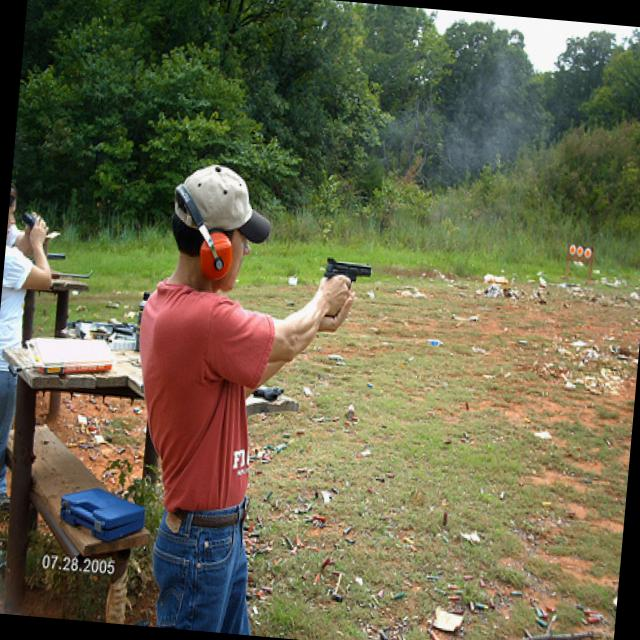handgun: (318, 252, 372, 318)
